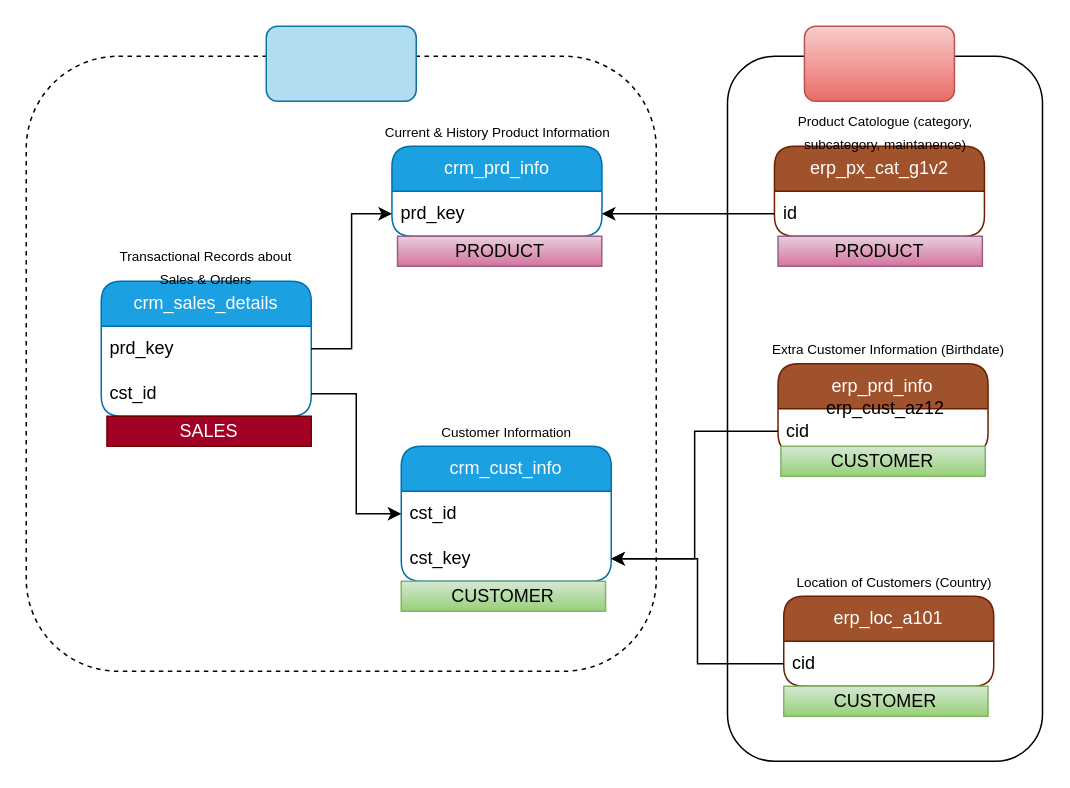
This 1070x788 diagram has some shape labels left out. Each missing label, with the centre of its shape:
CRM: the point at 340,63
ERP: the point at 878,63
